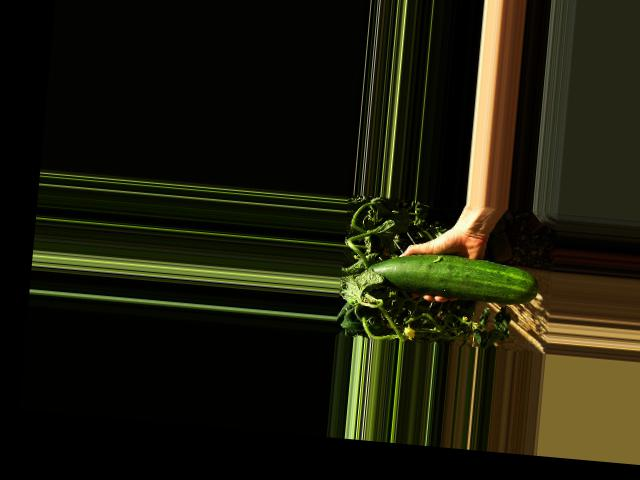cucumber: (363, 248, 541, 307)
